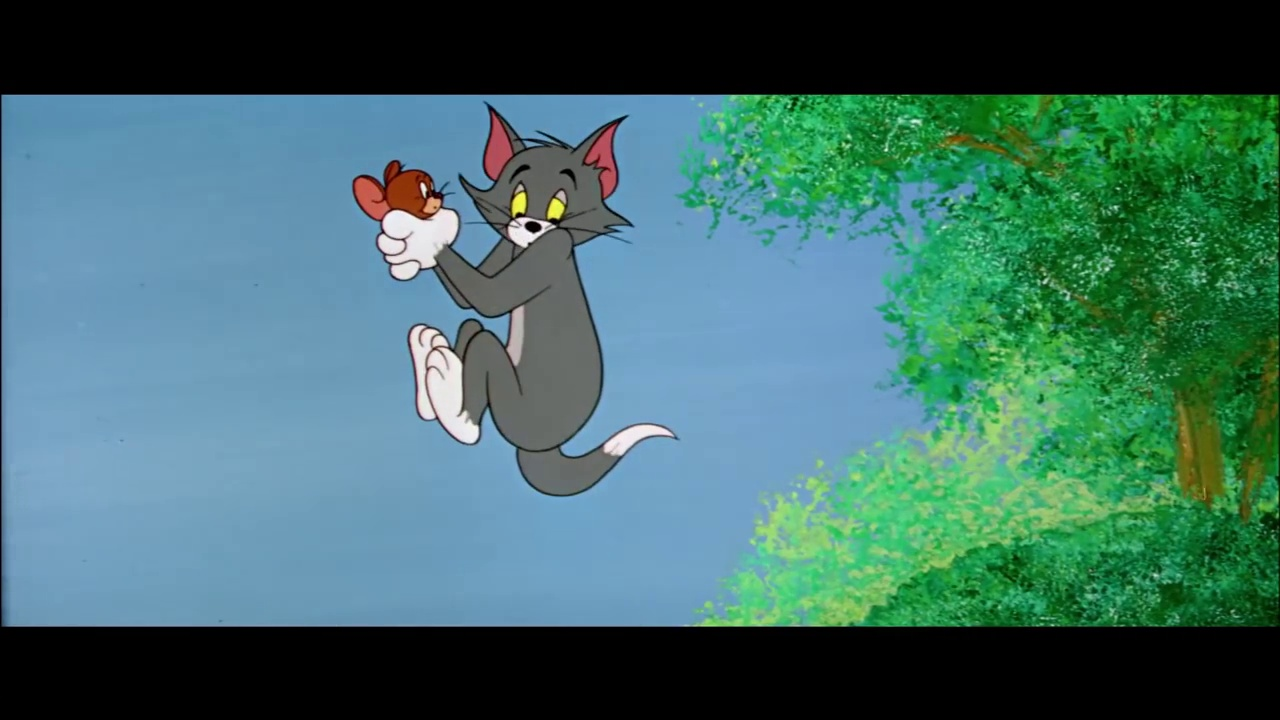tom: (456, 102, 636, 253)
